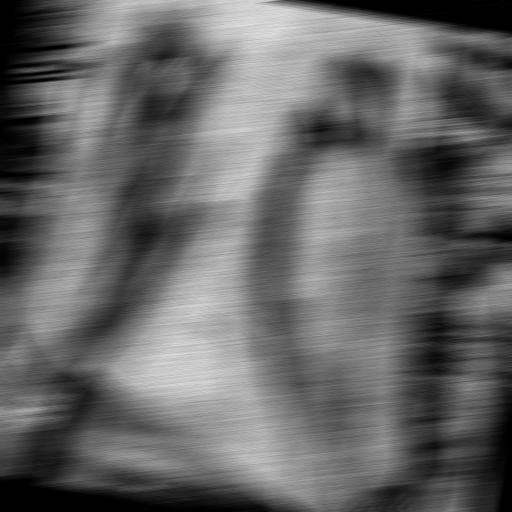bottom_right: (2, 313, 30, 337)
house: (35, 0, 403, 406)
